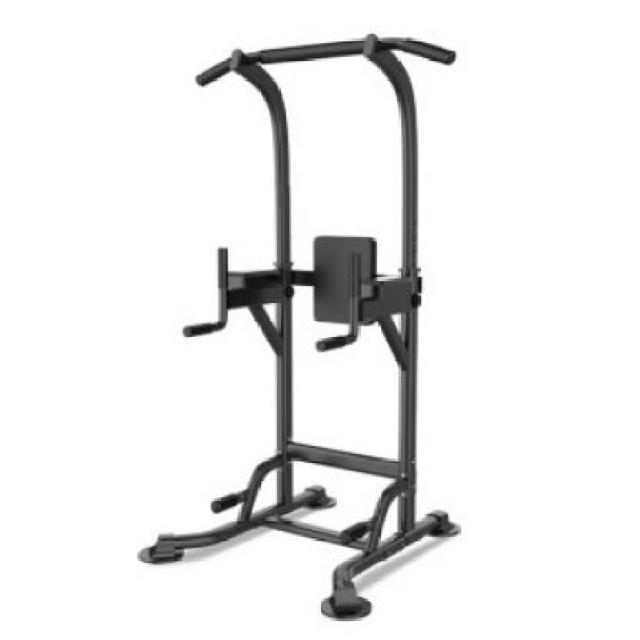chinning dipping: (137, 33, 461, 622)
